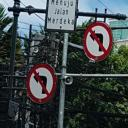NoVirarEsquerda: (27, 65, 56, 102), (84, 22, 112, 60)
